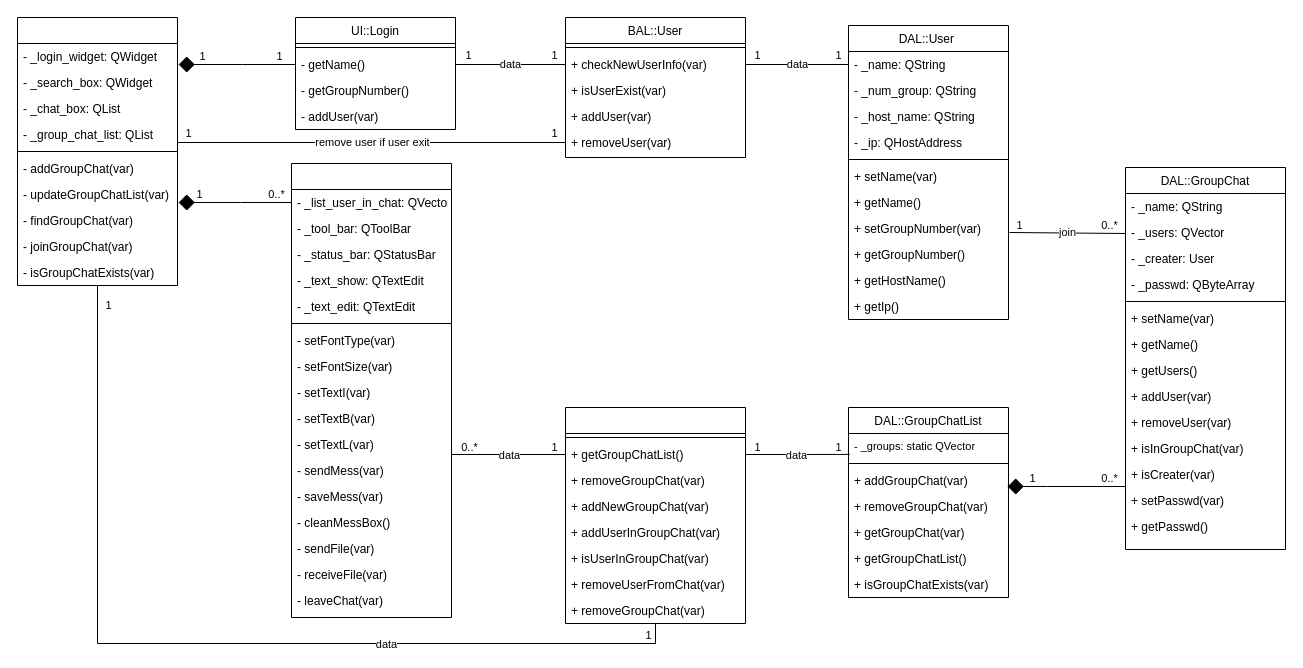
Some shapes in this 1303 by 668 pixel diagram are drawn without their labels. The shapes that lost their labels are listed below. From the top down, each one's box as (x1, y1, x2, y2) in pixels, then its label:
(16, 16, 178, 286): UI::MainWindow (Group List)
(290, 162, 452, 618): UI::ChatBox
(564, 406, 746, 624): BAL::GroupChatList
